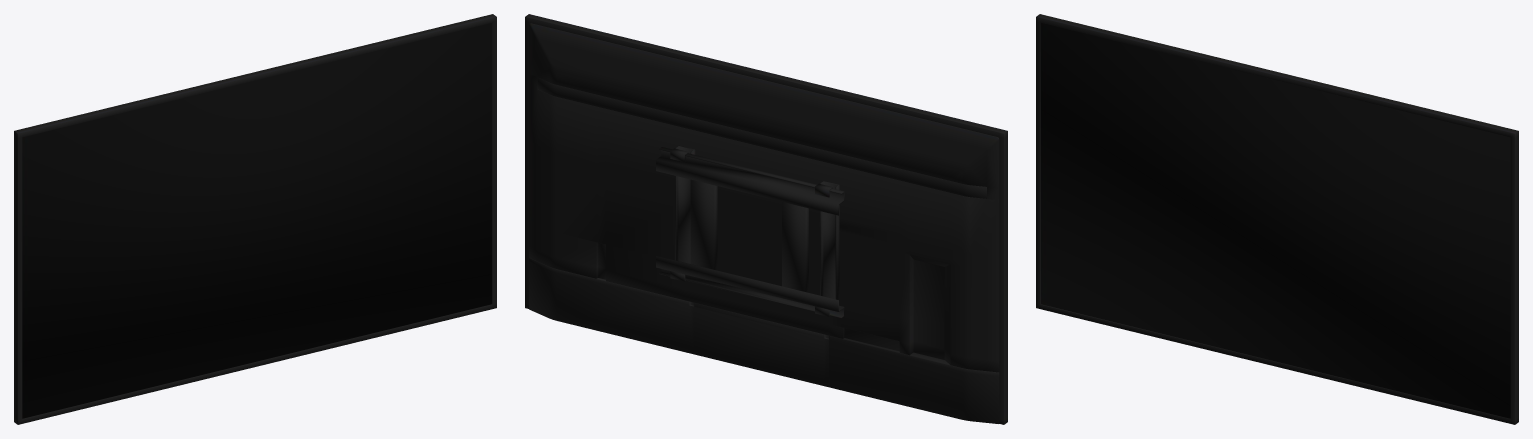
3 views of the same model, side by side, from view 1: azimuth 30°, elevation 25°; view 2: azimuth 150°, elevation 25°; view 3: azimuth 330°, elevation 25° (orthographic).
Visible parts, largest first — view 1: defaultMaterial_22, defaultMaterial_5; view 2: defaultMaterial_23, defaultMaterial_24, defaultMaterial_5, defaultMaterial_4, defaultMaterial_26, defaultMaterial_25, defaultMaterial_27; view 3: defaultMaterial_22, defaultMaterial_5.
Part boxes in pixels (<box>): defaultMaterial_22: <box>22,23,491,418</box>; defaultMaterial_5: <box>14,14,496,424</box>; defaultMaterial_23: <box>529,23,999,372</box>; defaultMaterial_24: <box>529,258,999,423</box>; defaultMaterial_5: <box>525,14,1007,424</box>; defaultMaterial_4: <box>675,145,839,305</box>; defaultMaterial_26: <box>656,147,844,318</box>; defaultMaterial_25: <box>537,77,986,198</box>; defaultMaterial_27: <box>670,148,832,316</box>; defaultMaterial_22: <box>1041,23,1510,418</box>; defaultMaterial_5: <box>1036,14,1518,424</box>.
Size of the model in its own units: 1.44 by 0.8363 by 0.1098.
1 material, 1 textured.
